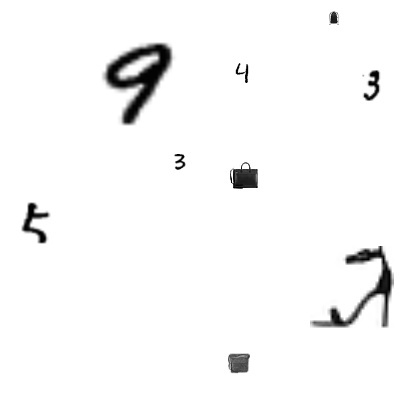3: (352, 63, 394, 105), (169, 150, 191, 172)
4: (229, 58, 257, 86)
5: (6, 193, 62, 249)
9: (83, 20, 195, 132)
Bag: (230, 161, 258, 189), (228, 352, 250, 374)
Coat: (327, 11, 341, 25)
Sandal: (310, 246, 394, 330)
